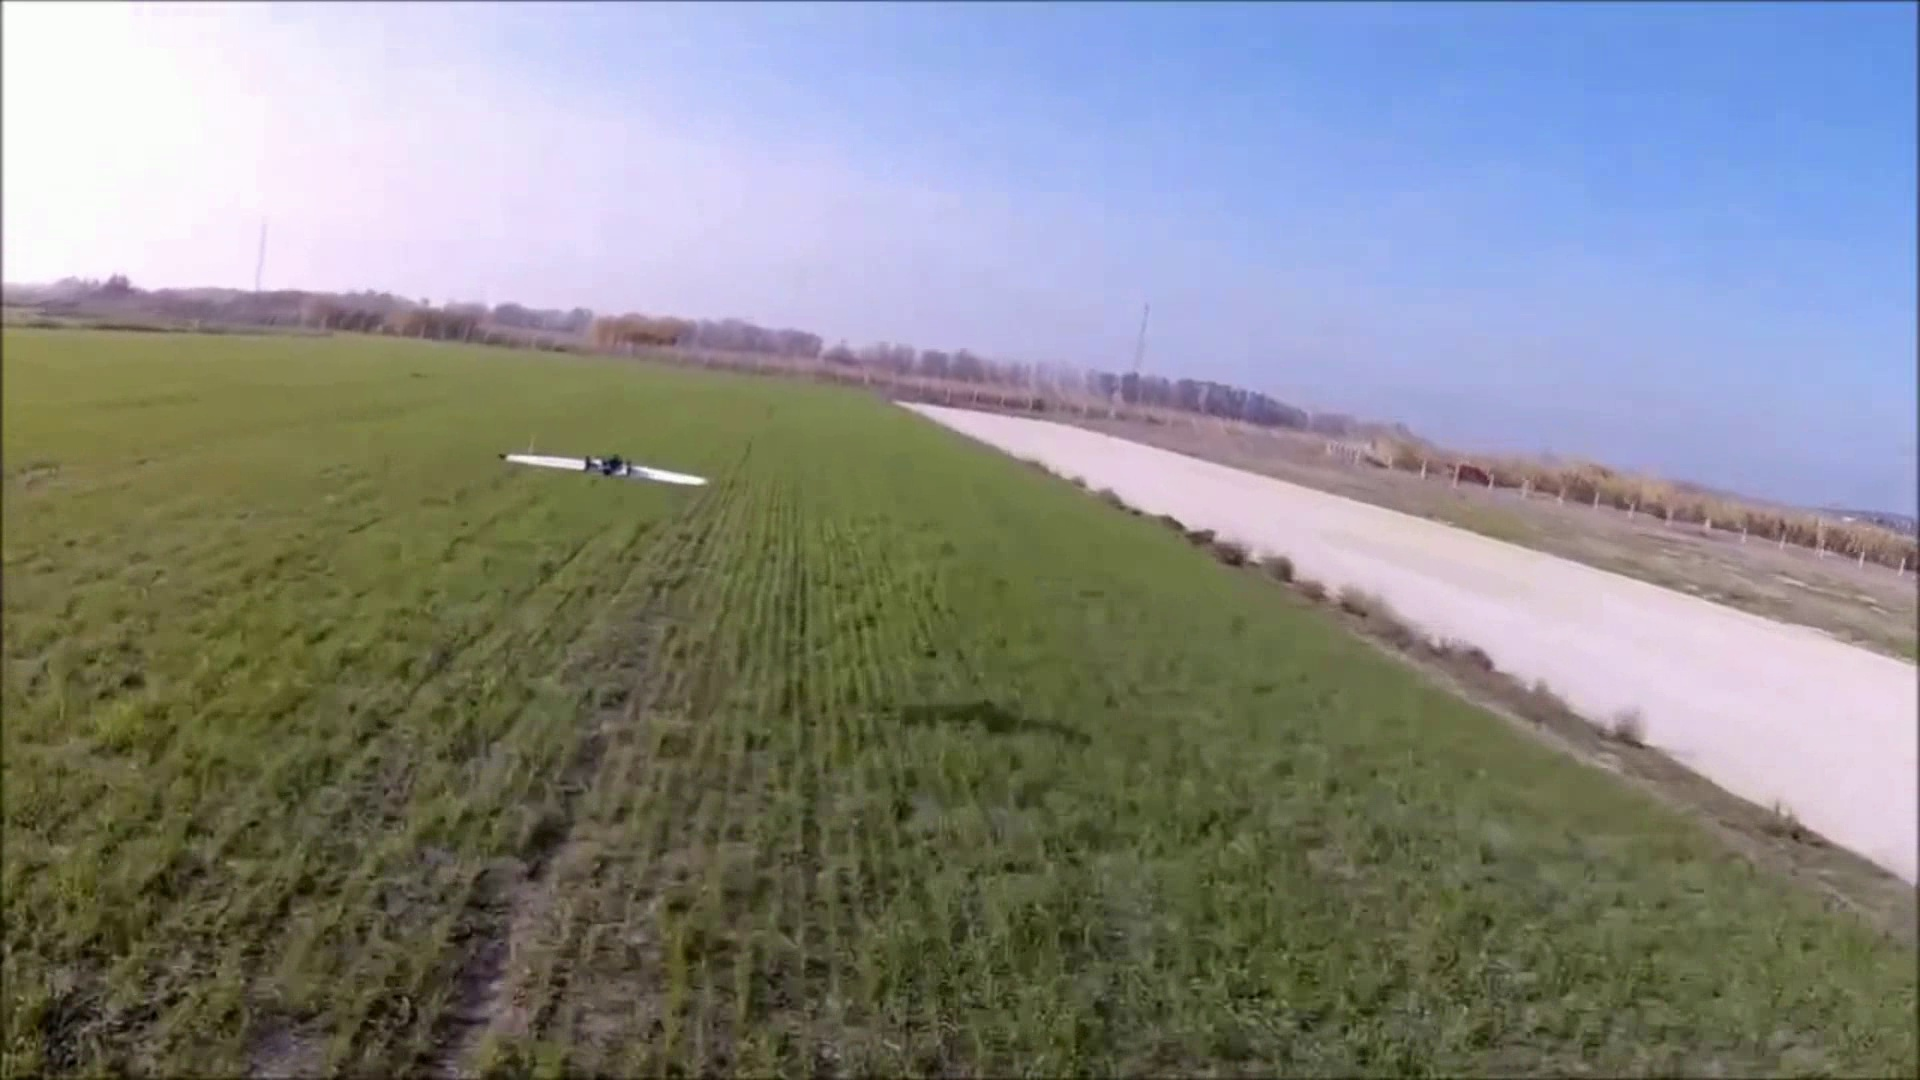airplane: (498, 444, 708, 491)
